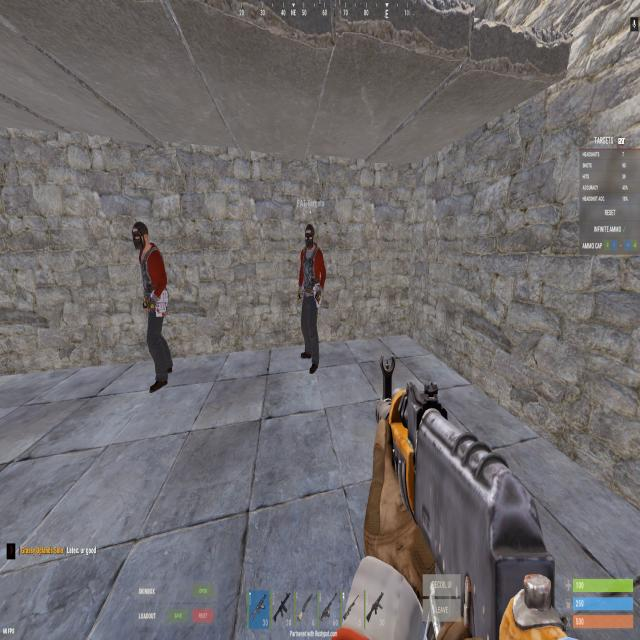Player: (130, 212, 178, 402), (297, 221, 327, 376)
